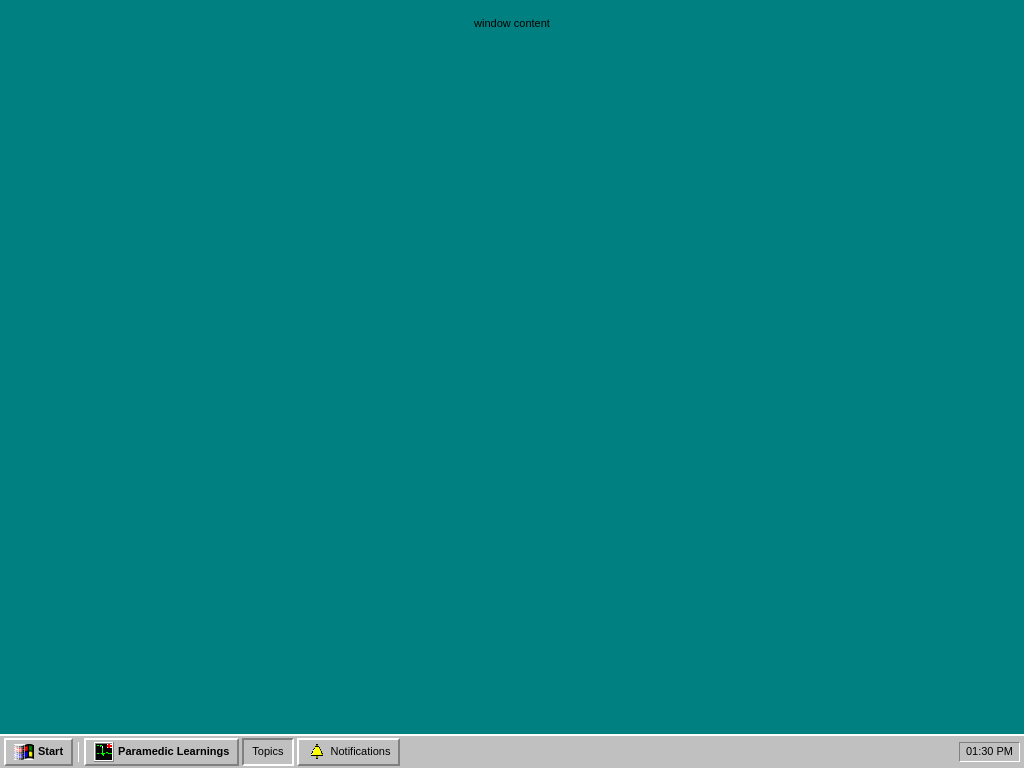
Test case: Taskbar › clicking Paramedic Learnings button minimizes the window when open
Expected: the text "window content" is shown, [474, 17, 550, 29]
Click the button "Paramedic Learnings" at (162,752), box [84, 738, 239, 766]
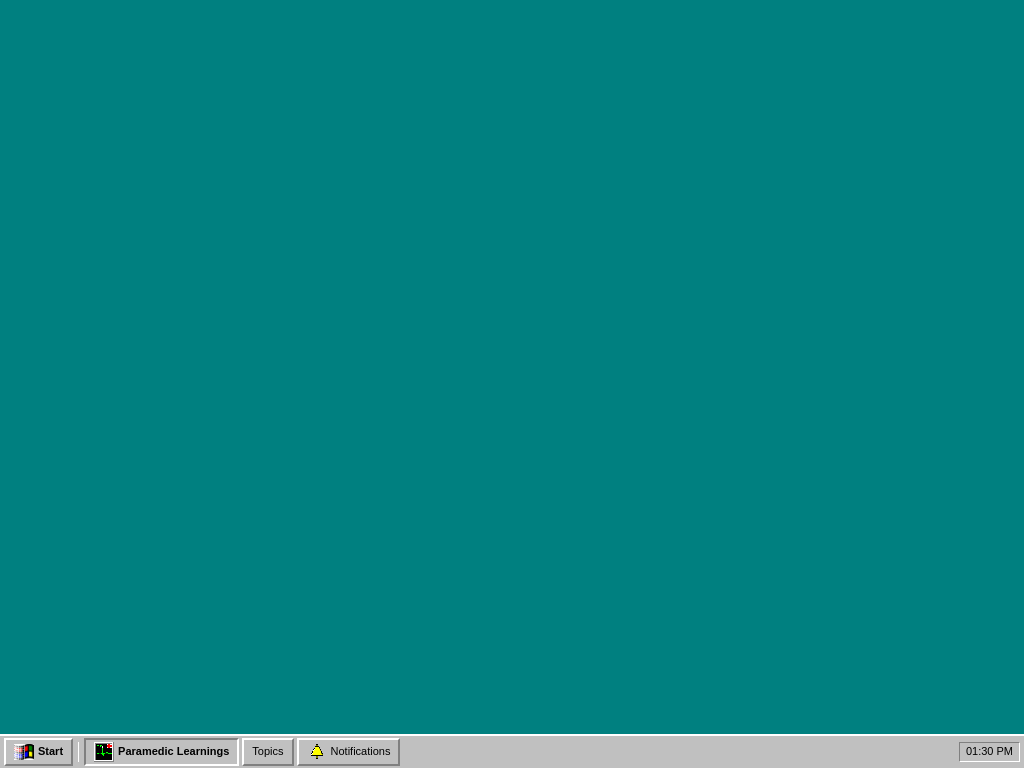
Expected: the text "window content" is gone
